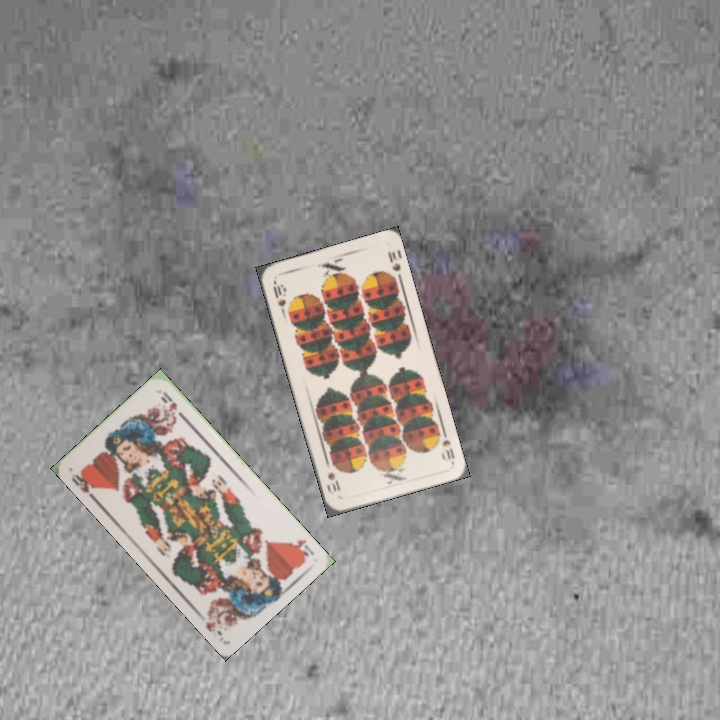HO: (67, 467, 99, 503), (287, 535, 317, 563)
S10: (433, 424, 457, 465), (269, 277, 289, 317)
